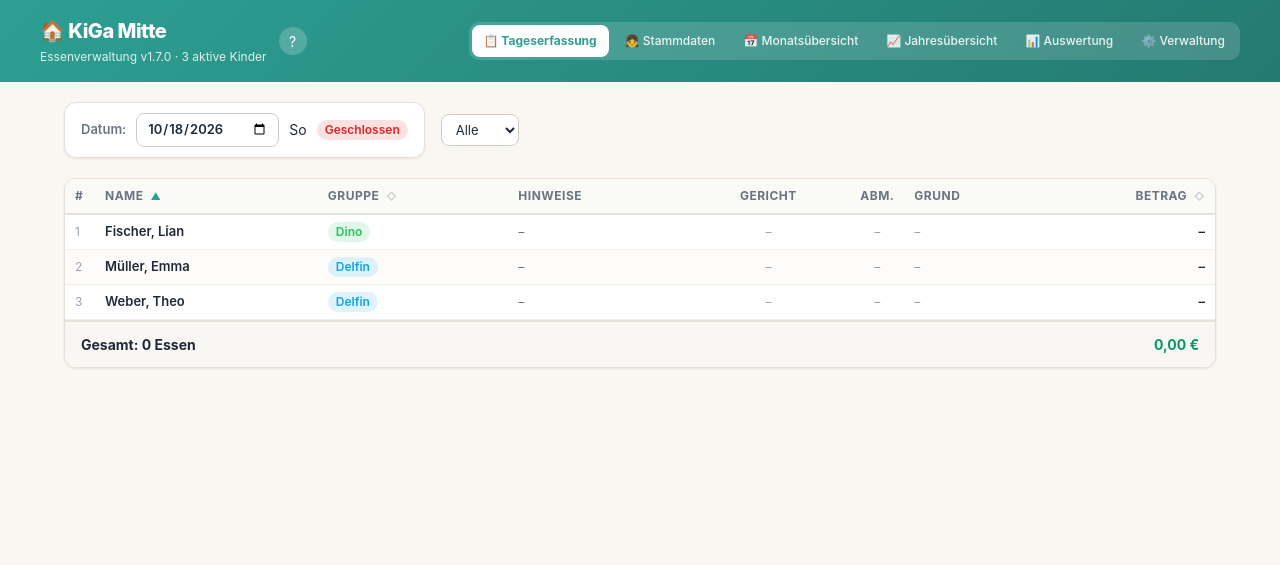
Test: Bulk Meal Assignment › shows bulk assign buttons in table header
Expected: the text "Müller, Emma" is shown, [95,249,318,284]
In the date field: (208, 130) [136,113,279,146], type "2026-04-08"
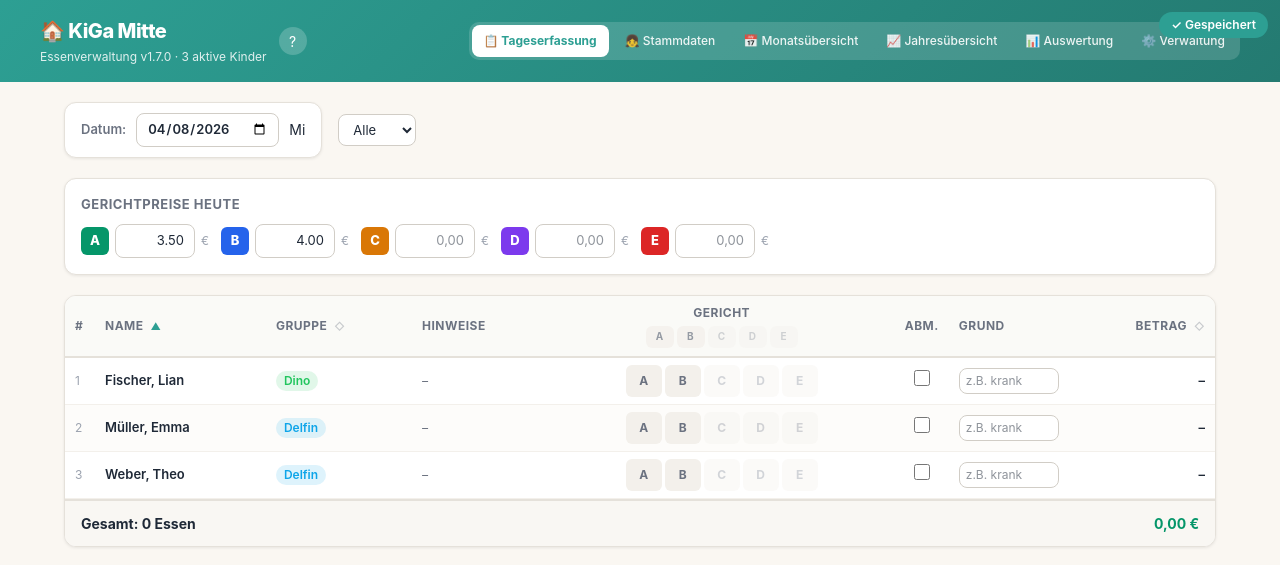
Now the text "Mi" is shown, box [289,119,305,140]
Now the button with class "meal-btn" in the row of "Name" reads "A", box [646,326,674,348]
Now the button with class "meal-btn" in the row of "Name" reads "B", box [677,326,705,348]
